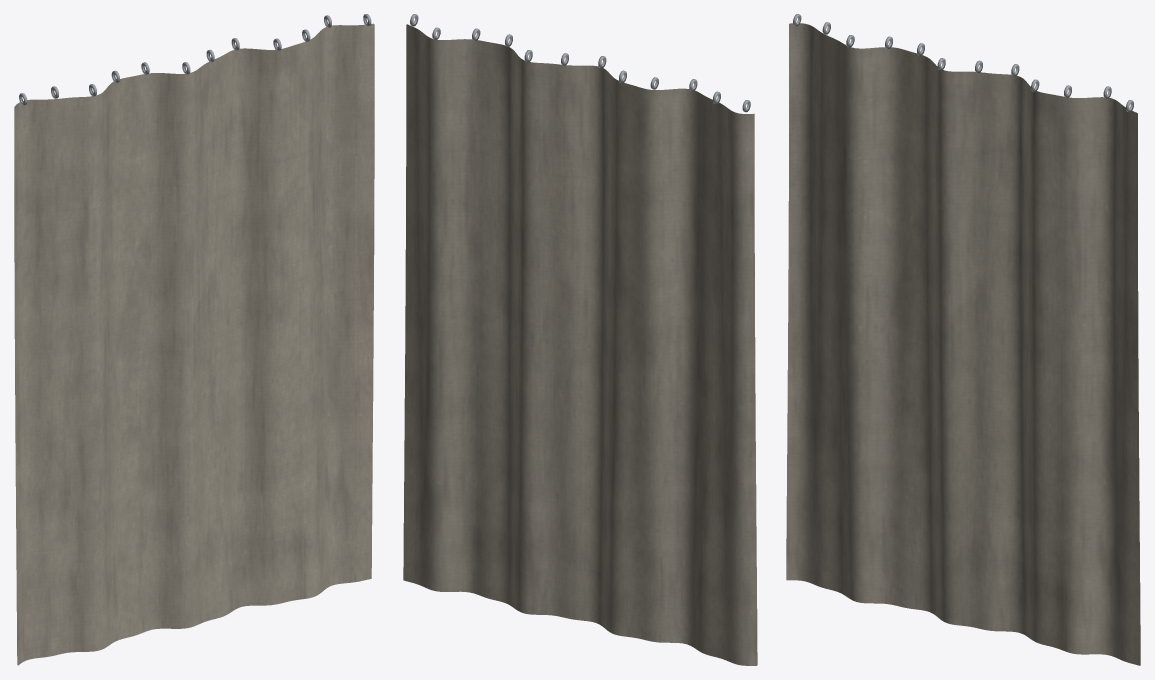
Rendered from ciuch_zaslona.glb.
The picture shows the model from 3 angles, left to right: view 1: azimuth 30°, elevation 25°; view 2: azimuth 150°, elevation 25°; view 3: azimuth 330°, elevation 25°; orthographic projection.
Visible parts, largest first — view 1: TintZaslona, Kolka; view 2: TintZaslona, Kolka; view 3: TintZaslona, Kolka.
Boxes of the visible parts, left/top/right/bottom form: TintZaslona: left=14, top=23, right=374, bottom=665; Kolka: left=19, top=14, right=371, bottom=105; TintZaslona: left=403, top=24, right=757, bottom=665; Kolka: left=410, top=14, right=750, bottom=112; TintZaslona: left=786, top=23, right=1140, bottom=665; Kolka: left=793, top=14, right=1133, bottom=112.
Size of the model in its own units: 1.3 by 1.99 by 0.1172.
Materials: 2 (1 with a texture image).
